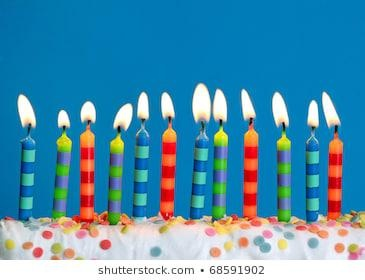fire: (17, 93, 36, 129), (272, 91, 288, 130)
